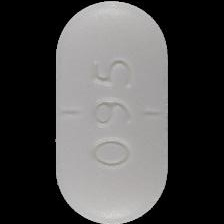42291-259: (0, 0, 224, 224)
